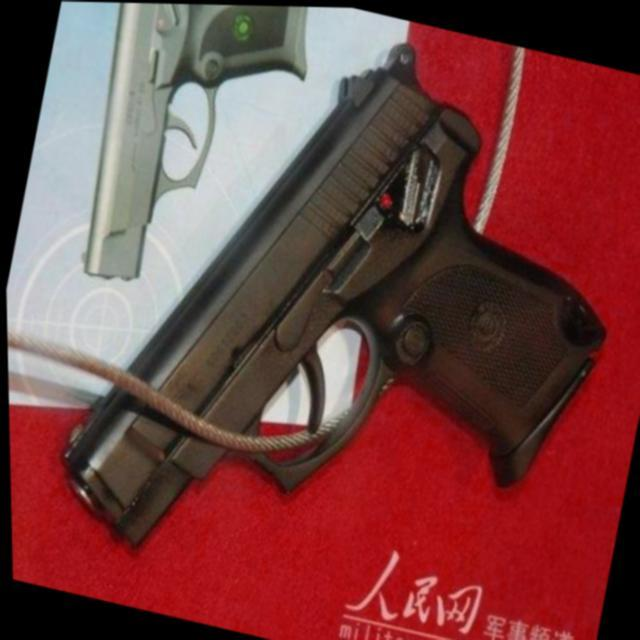weapon: (33, 1, 640, 640), (55, 1, 324, 315)
